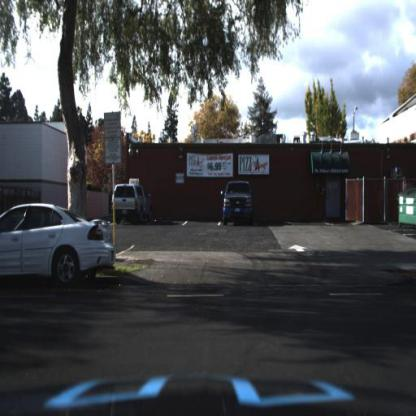car: (1, 200, 119, 286), (214, 177, 258, 234), (112, 183, 156, 223)
